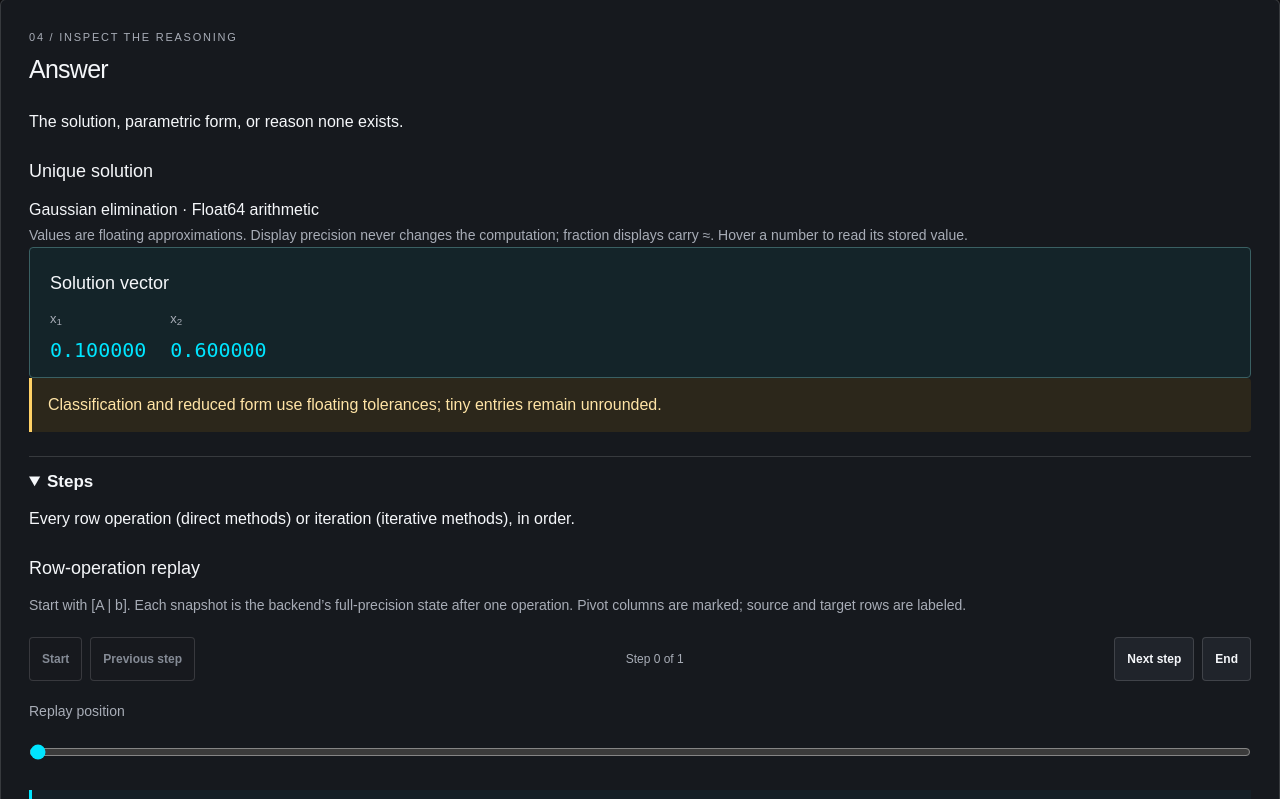
Test: Gaussian elimination exposes back substitution
The image size is (1280, 799).
Click the button "Next step": click(1154, 659) [1114, 637, 1194, 681]
(page scrolled)
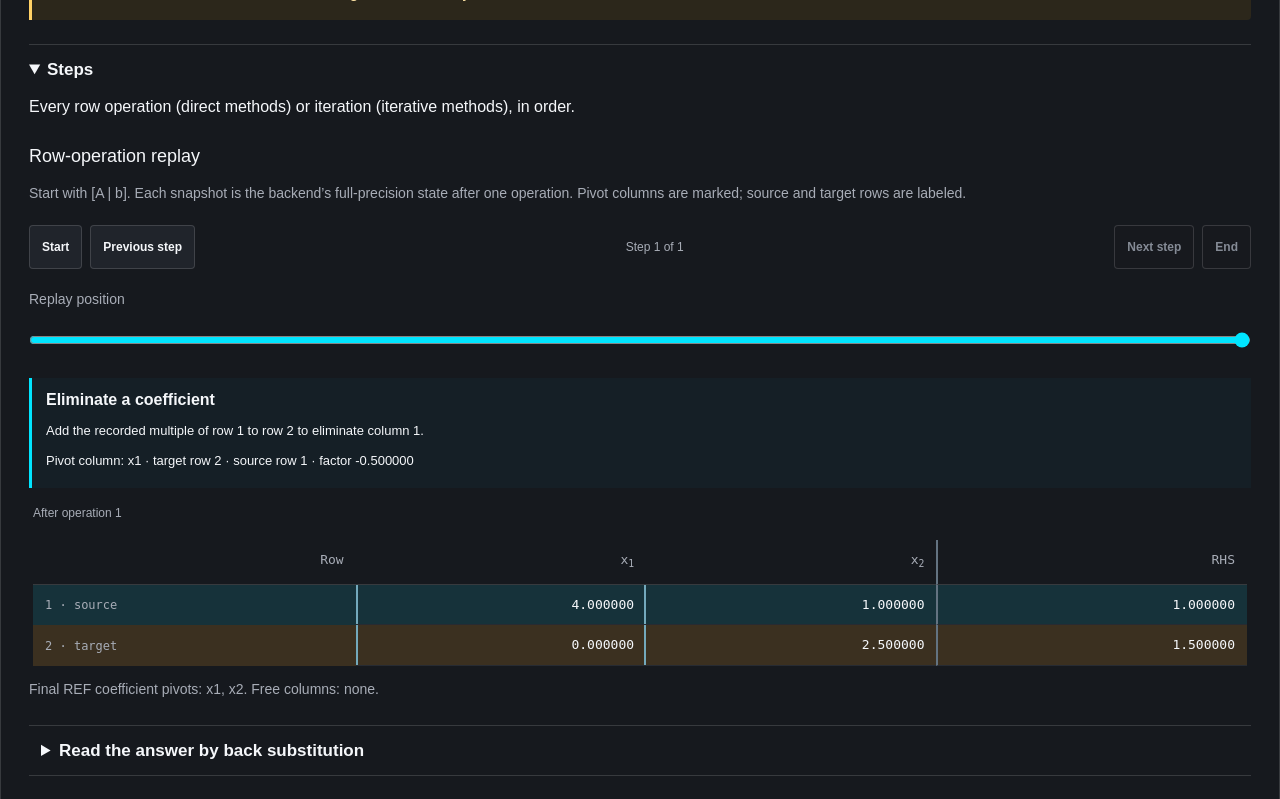
Result: the text "Eliminate a coefficient" is shown at [46, 391, 215, 408]
